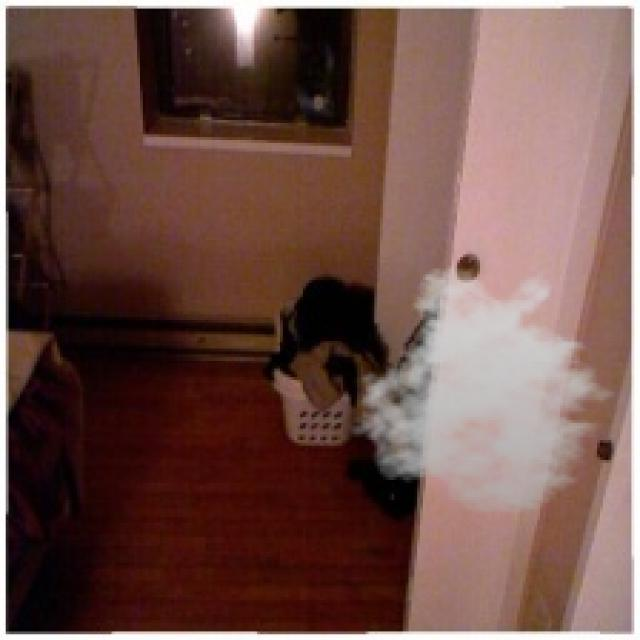smoke: (348, 266, 632, 517)
